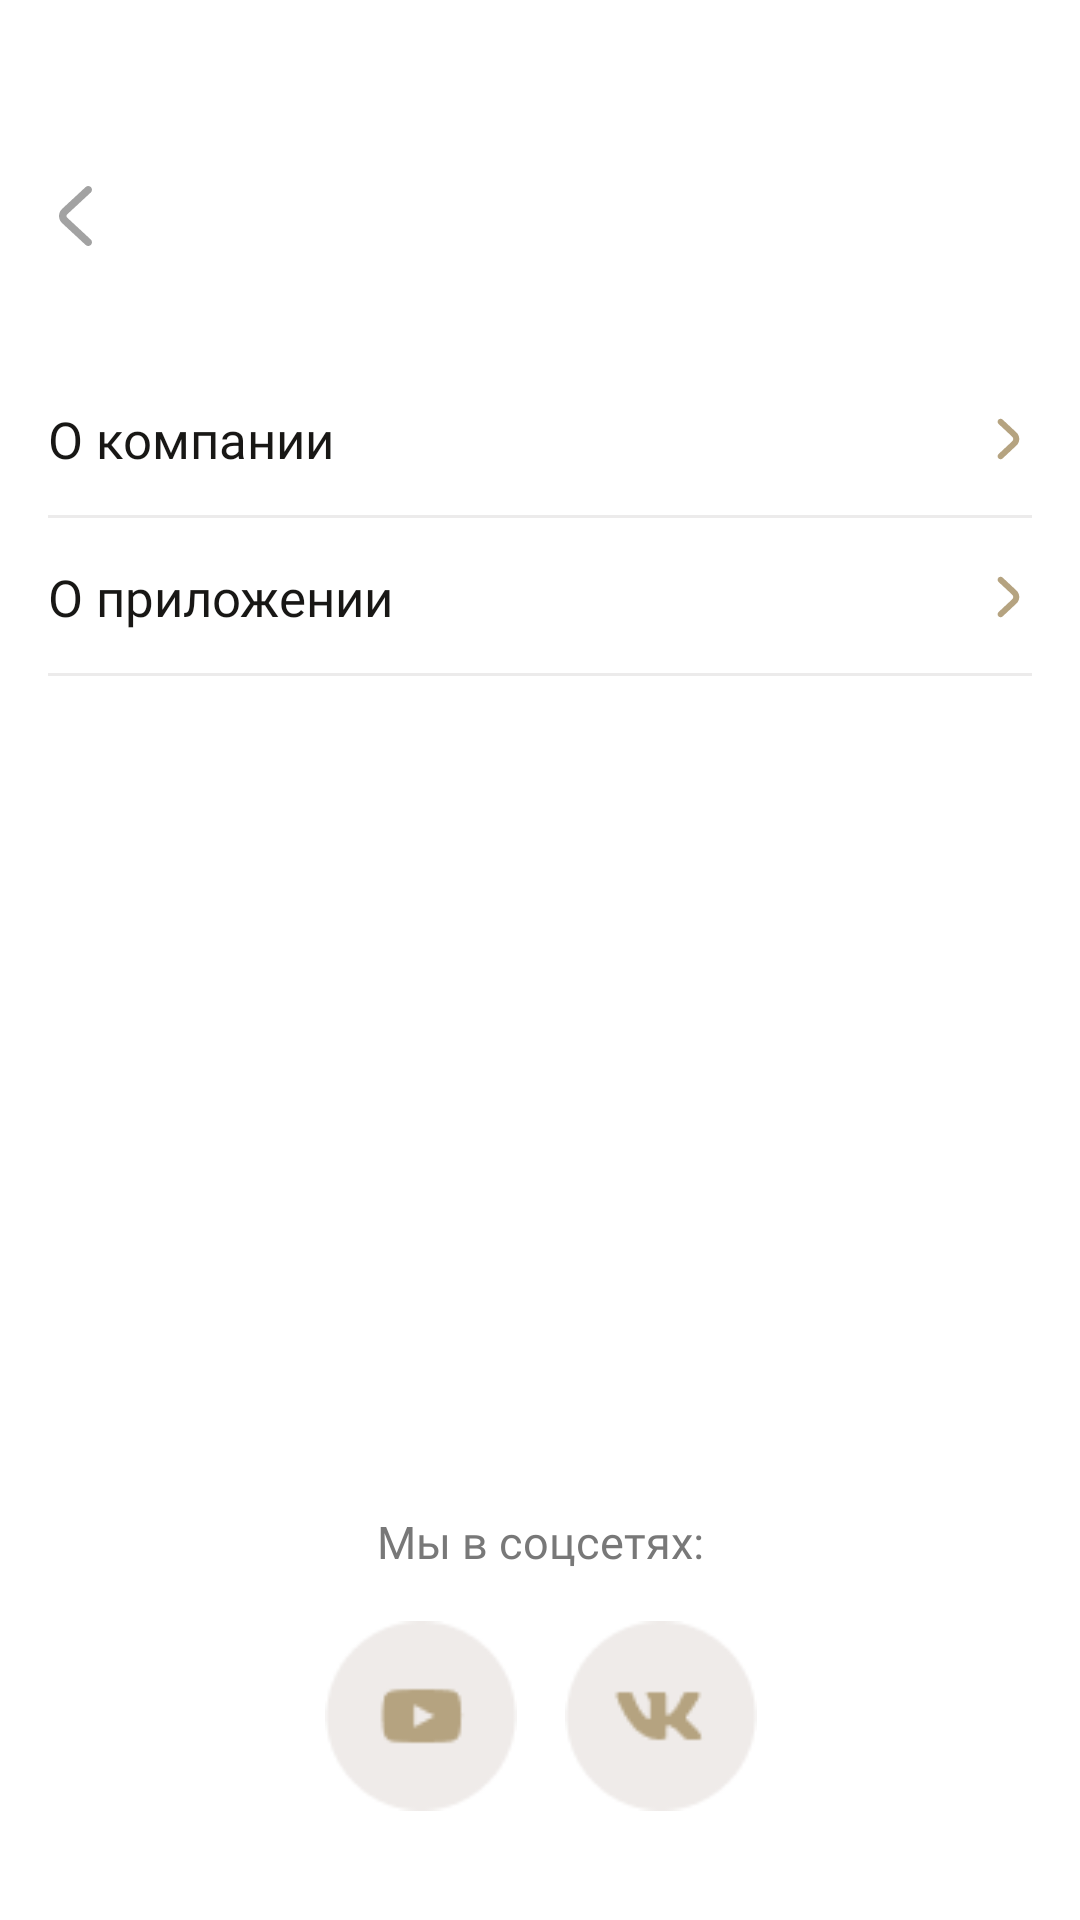

Icon click points for this 1080*1920 phone screenshot, format (x=x, y=y):
back: (x=75, y=216)
right: (x=1008, y=439), (x=1008, y=597)
